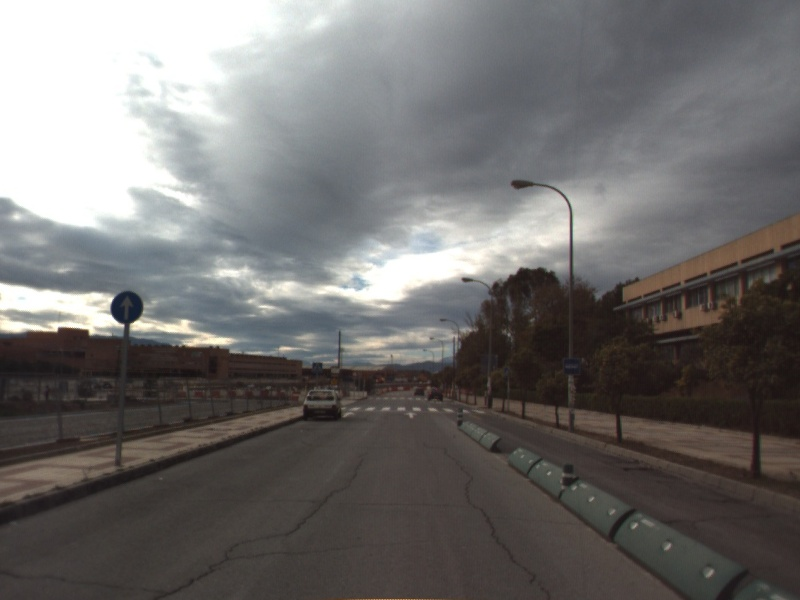STRAIGHT: (402, 410, 420, 420), (340, 409, 357, 419)
